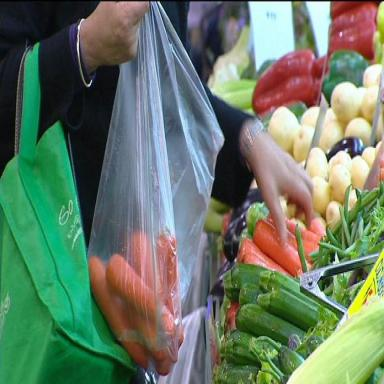plasticbag: (107, 0, 209, 367)
